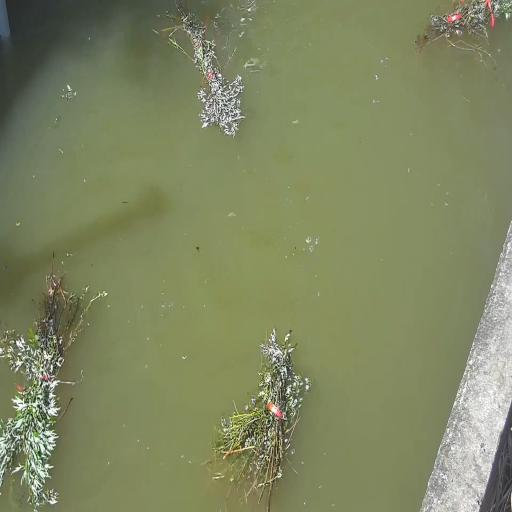twig: (0, 256, 107, 511), (206, 326, 310, 510), (163, 0, 246, 135), (415, 1, 508, 63)
